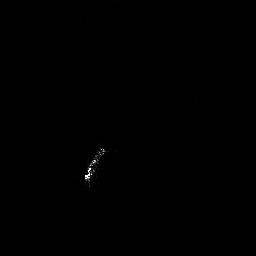ship: (81, 144, 108, 191)
